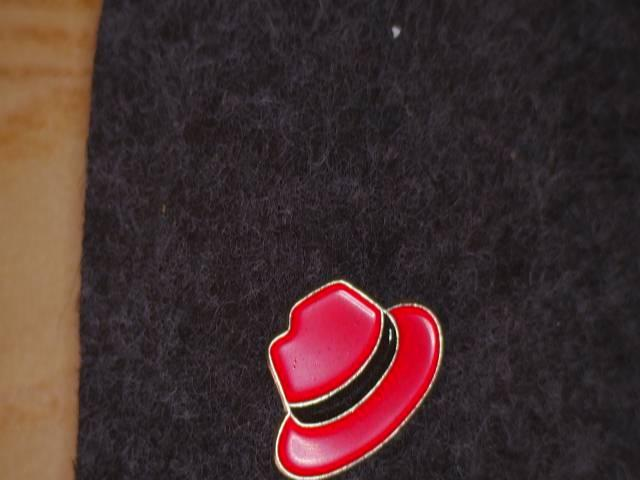Red-Hat: (228, 256, 466, 480)
